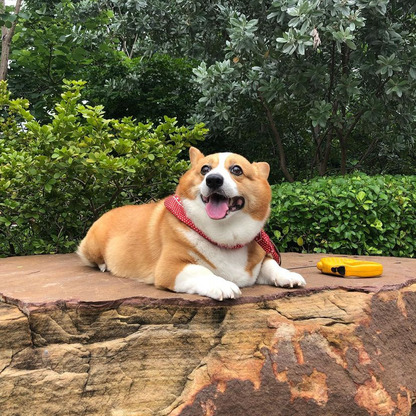Corgi: (69, 148, 319, 304)
